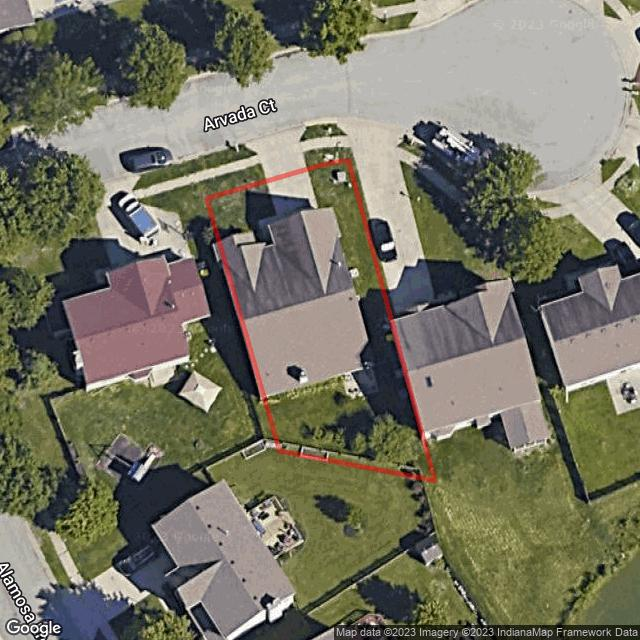Driveway: (267, 172, 318, 221)
Extra Driveway: (243, 127, 306, 178)
Extra Lawn: (200, 163, 266, 197), (192, 144, 257, 172), (299, 122, 347, 143), (302, 146, 350, 167)
Extra Sidewalk: (198, 155, 260, 180), (300, 136, 350, 152)
House: (222, 208, 368, 396)
Other: (344, 362, 379, 398), (349, 268, 359, 279)
Sidewalk: (258, 215, 278, 246)
